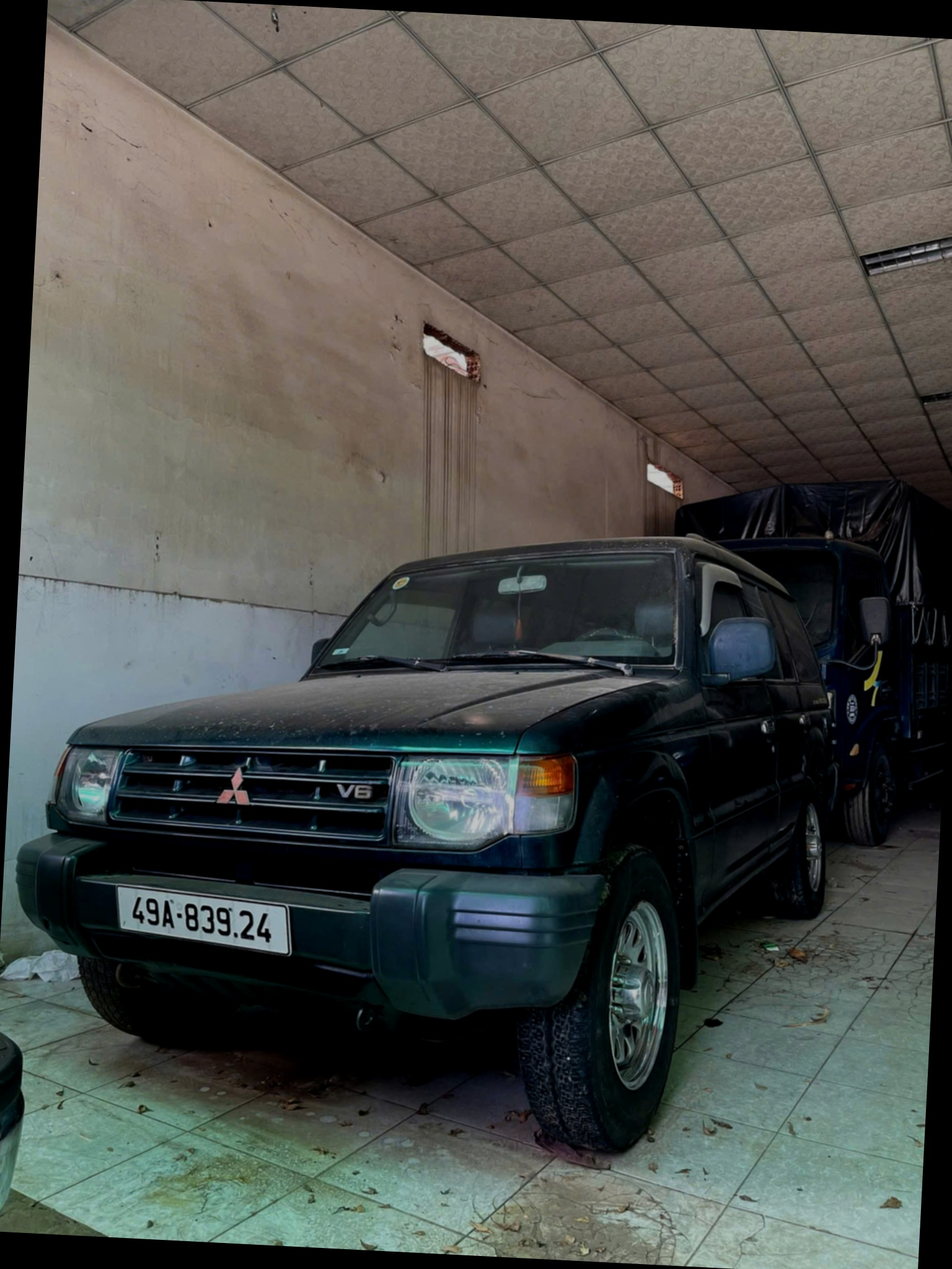Bien-so: (131, 899, 299, 962)
